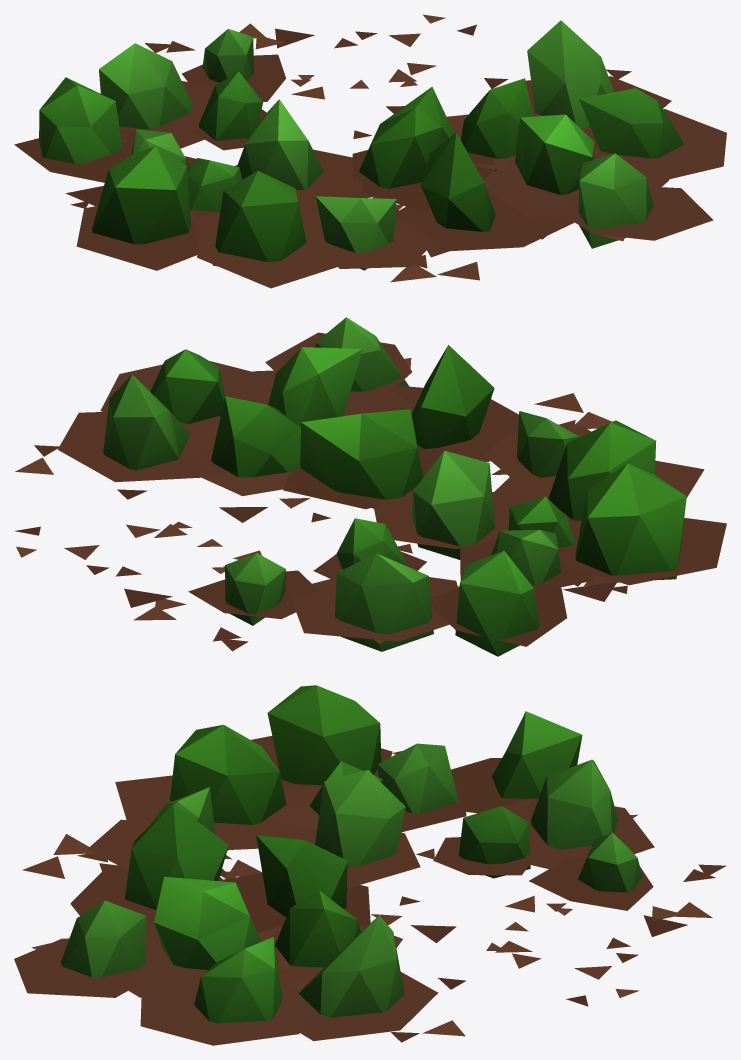
Rendered from uranium-ore-rich.glb.
The picture shows the model from 3 angles, top to bottom: view 1: azimuth 30°, elevation 25°; view 2: azimuth 150°, elevation 25°; view 3: azimuth 270°, elevation 25°; orthographic projection. The views are drawn at different scales.
Visible parts, largest first — view 1: uranium-ore-rich; view 2: uranium-ore-rich; view 3: uranium-ore-rich.
Boxes of the visible parts, x1,y1,x2,y2 form: uranium-ore-rich: (14, 14, 726, 288); uranium-ore-rich: (14, 317, 726, 656); uranium-ore-rich: (14, 685, 726, 1045).
Bounding box in the file's own units: 1.61 × 0.2601 × 1.53.
